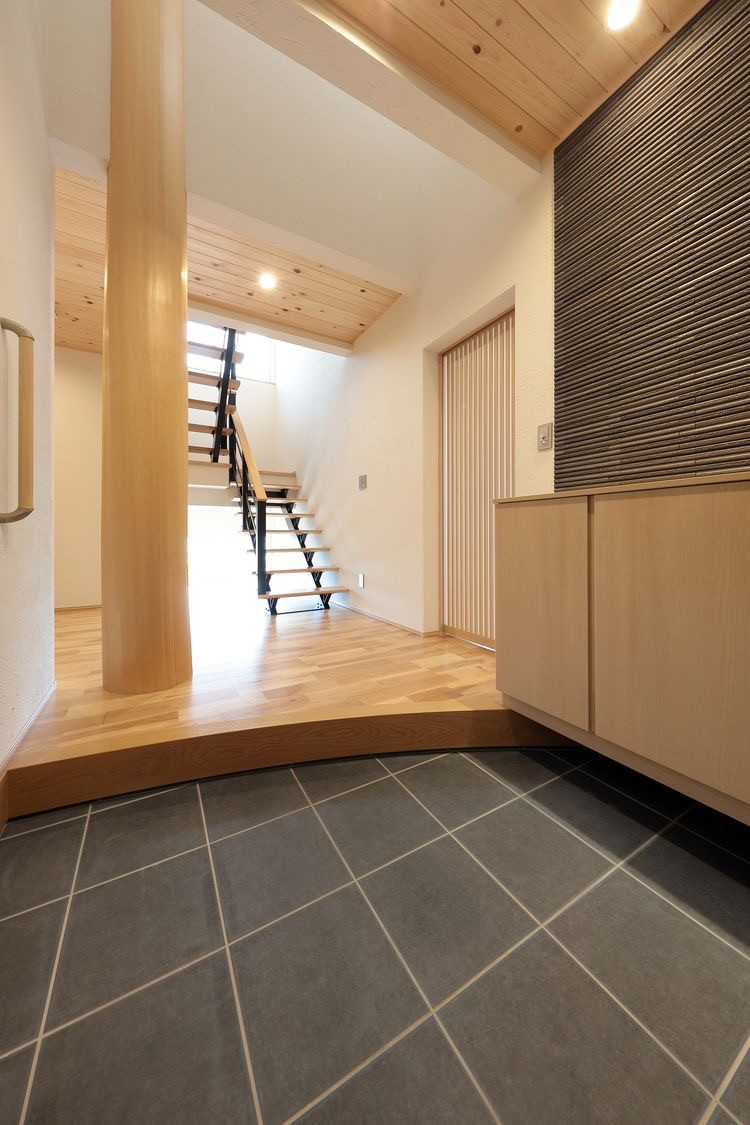floor: (0, 747, 749, 1124)
